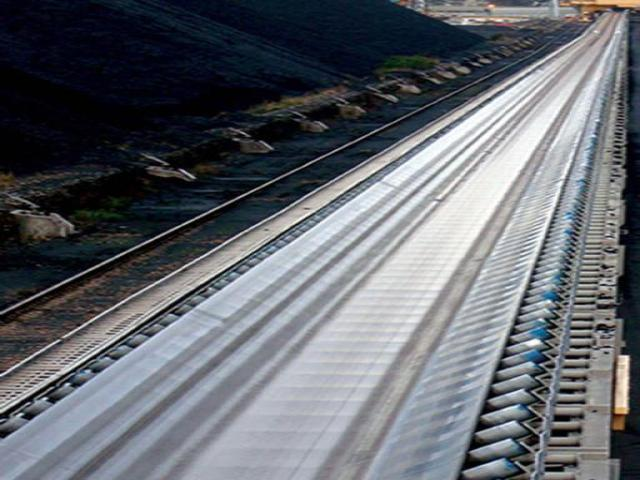conveyor: (0, 5, 636, 479)
